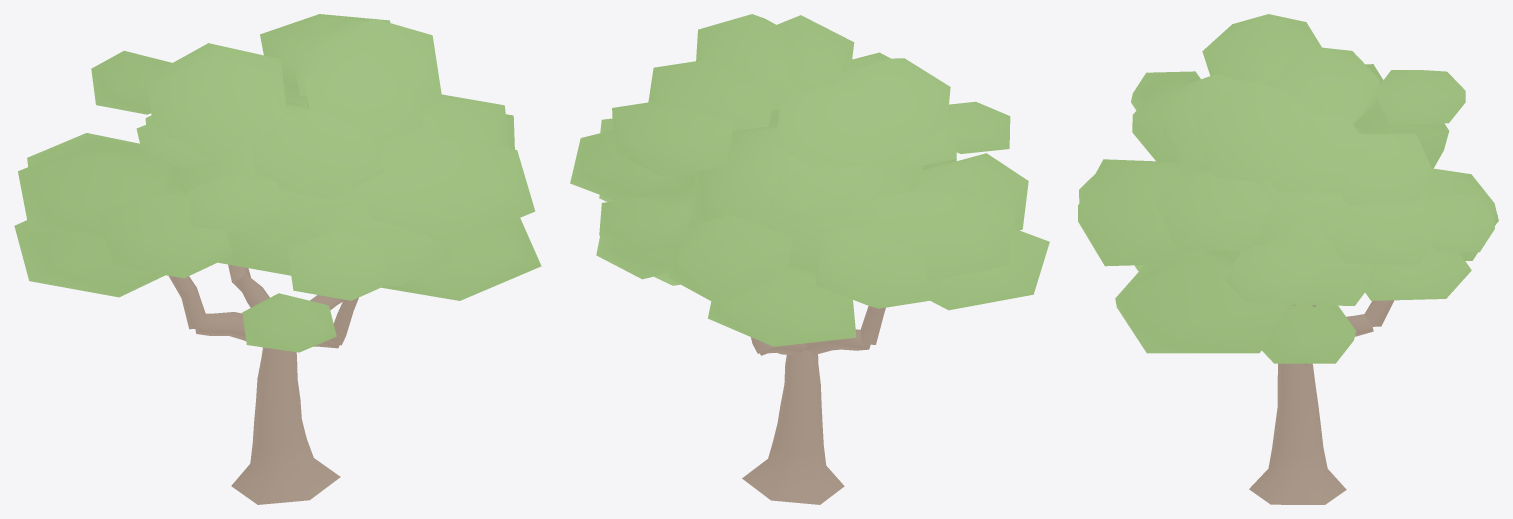
File: Blender_Oak_1_Far.glb
3 views of the same model, side by side, from view 1: azimuth 30°, elevation 25°; view 2: azimuth 150°, elevation 25°; view 3: azimuth 270°, elevation 25° (orthographic). The views are drawn at different scales.
Parts seen in each view (by area): view 1: Blender_Oak_1_Far; view 2: Blender_Oak_1_Far; view 3: Blender_Oak_1_Far.
Part boxes in pixels (left/top/right/bottom): Blender_Oak_1_Far: left=14, top=14, right=541, bottom=504; Blender_Oak_1_Far: left=570, top=14, right=1049, bottom=504; Blender_Oak_1_Far: left=1078, top=14, right=1498, bottom=504.
Bounding box in the file's own units: 19.53 × 18.51 × 15.88.
